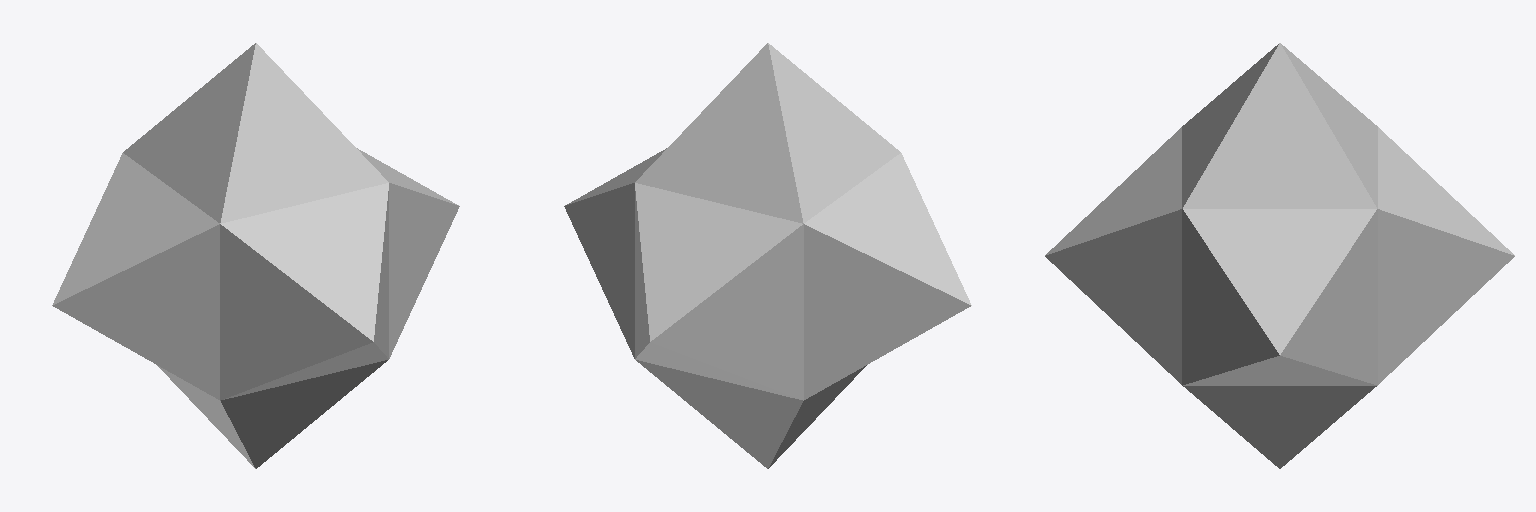
Rendered from TestObjectSixPyramid.obj.
3 views of the same model, side by side, from view 1: azimuth 30°, elevation 25°; view 2: azimuth 150°, elevation 25°; view 3: azimuth 270°, elevation 25° (orthographic).
Visible parts, largest first — view 1: default; view 2: default; view 3: default.
Part boxes in pixels (bbox=[...]): default: bbox=[52, 43, 459, 468]; default: bbox=[564, 43, 971, 468]; default: bbox=[1045, 43, 1514, 468].
Bounding box in the file's own units: 34.14 × 34.14 × 34.14.